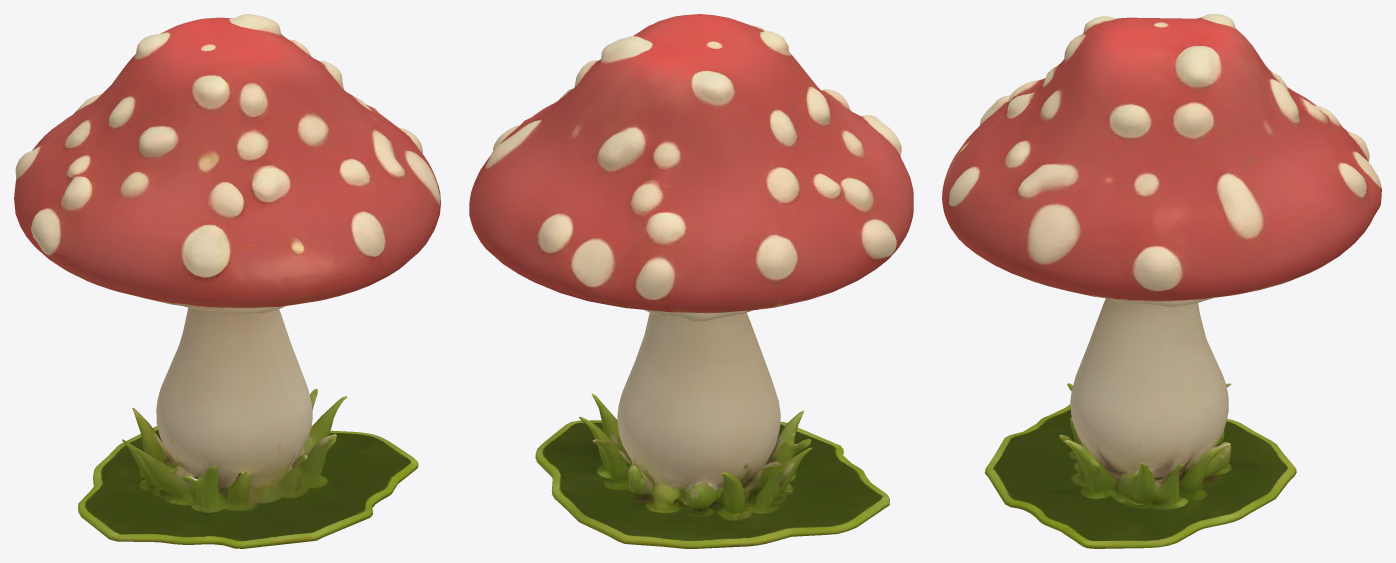
Rendered from grib.glb.
The picture shows the model from 3 angles, left to right: view 1: azimuth 30°, elevation 25°; view 2: azimuth 150°, elevation 25°; view 3: azimuth 270°, elevation 25°; orthographic projection. The views are drawn at different scales.
Parts seen in each view (by area): view 1: model; view 2: model; view 3: model.
Part boxes in pixels (x1=…): model: x1=14, y1=14, x2=440, y2=548; model: x1=469, y1=14, x2=913, y2=548; model: x1=942, y1=14, x2=1381, y2=548.
Size of the model in its own units: 1.43 by 1.58 by 1.42.
1 material, 1 textured.
